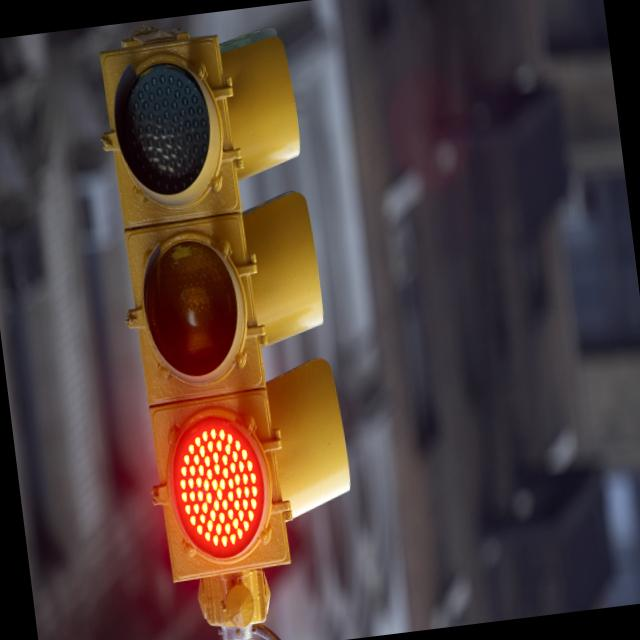red-lights: (165, 412, 269, 556)
